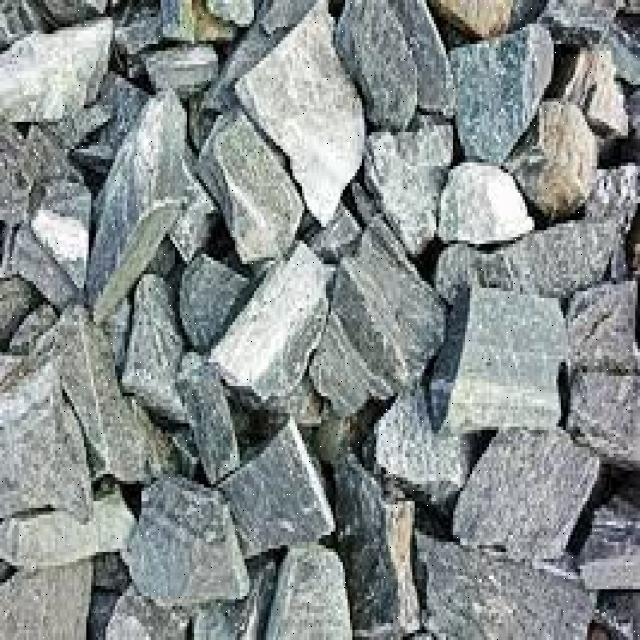Metamorphic: (2, 4, 636, 636)
